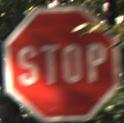Stop sign: (0, 0, 123, 122)
